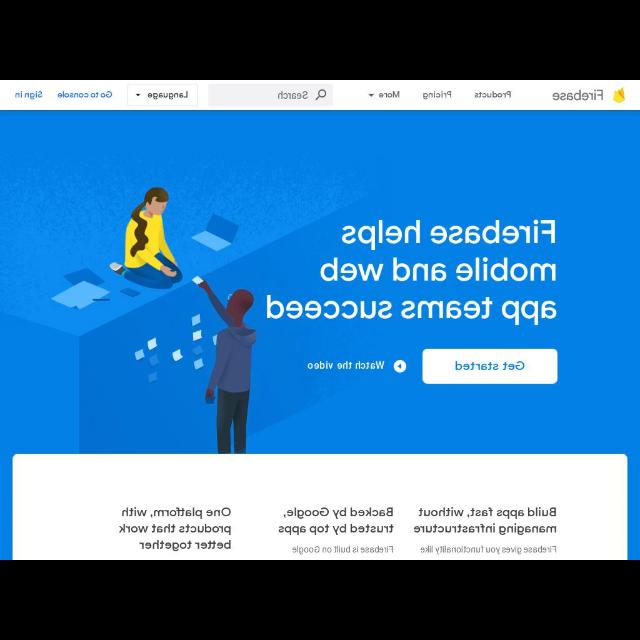backgroundimage: (2, 110, 638, 558)
icon: (315, 88, 327, 102), (394, 360, 406, 372), (367, 93, 375, 99), (135, 92, 141, 98)
image: (613, 87, 625, 103)
input: (206, 84, 334, 108)
spinner: (126, 84, 198, 106), (367, 90, 401, 100)
text: (262, 219, 558, 325), (116, 506, 232, 552), (412, 506, 558, 534), (274, 507, 396, 538), (418, 544, 560, 556), (290, 544, 394, 556), (306, 360, 384, 372), (454, 360, 528, 372), (552, 89, 604, 101), (58, 90, 112, 100), (146, 89, 190, 101), (276, 90, 310, 100), (473, 91, 512, 99), (422, 90, 452, 100), (13, 90, 42, 100), (378, 91, 400, 99)
textbutton: (422, 348, 558, 386)
toolbar: (1, 82, 637, 108)
